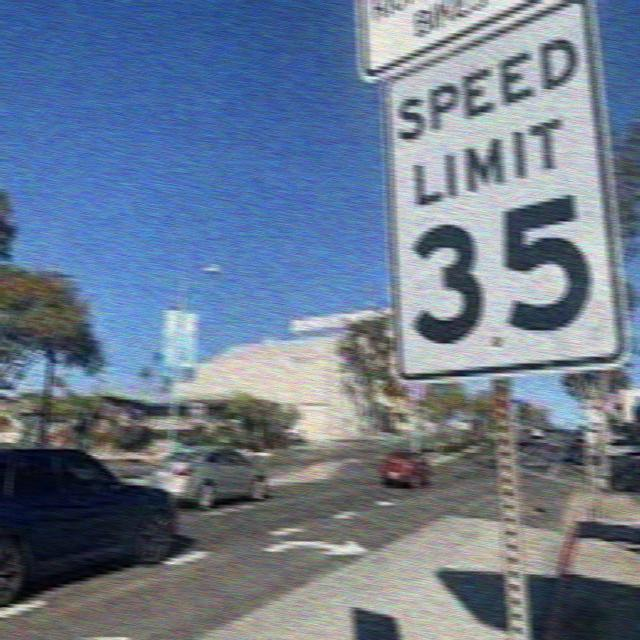speedLimit35: (363, 0, 631, 386)
